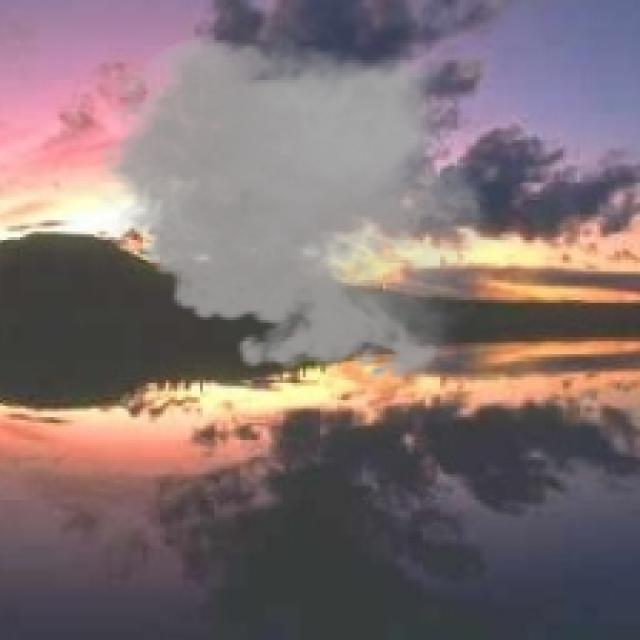smoke: (86, 26, 506, 391)
